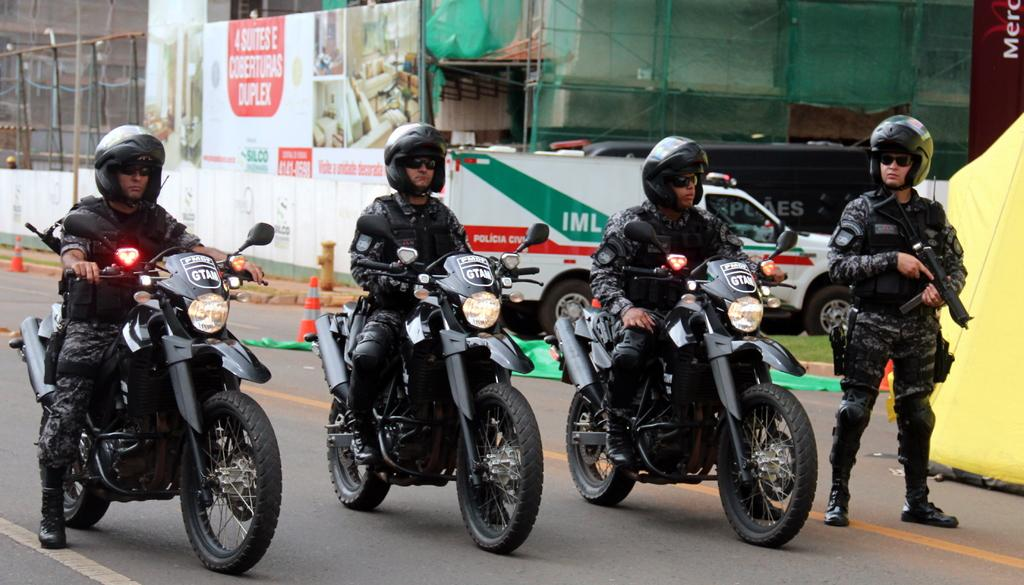helmet: (94, 125, 166, 205), (641, 135, 710, 209), (869, 114, 934, 187), (383, 122, 447, 195)
